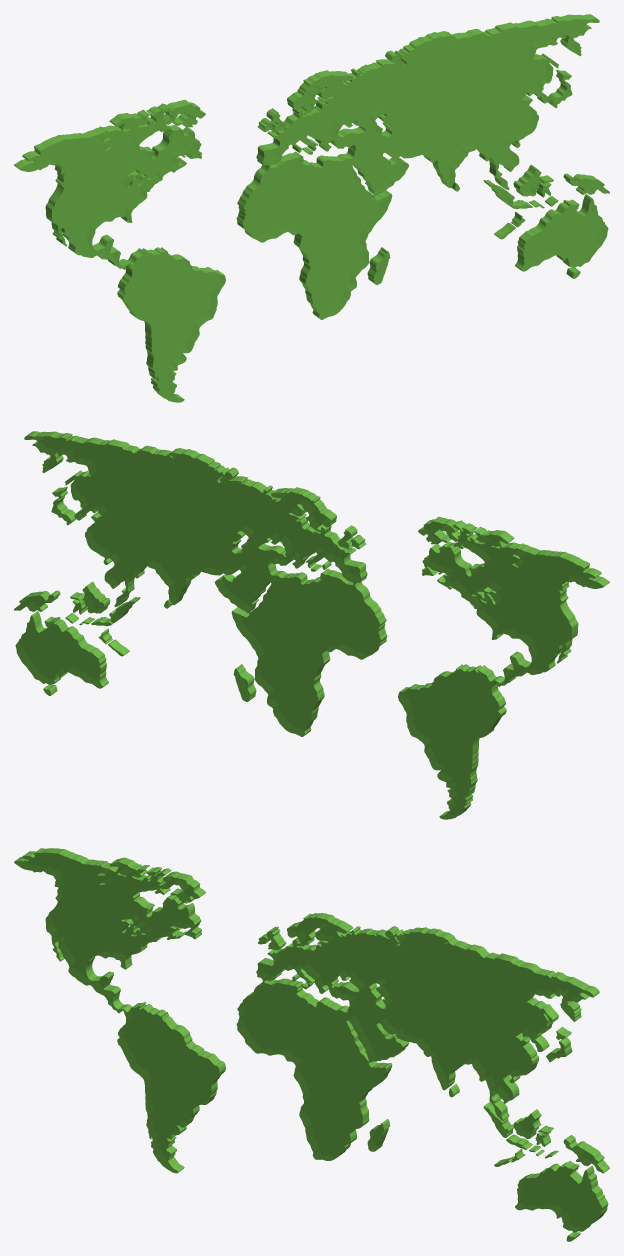
File: world_map_static.glb
The picture shows the model from 3 angles, top to bottom: view 1: azimuth 30°, elevation 25°; view 2: azimuth 150°, elevation 25°; view 3: azimuth 330°, elevation 25°; orthographic projection.
Visible parts, largest first — view 1: Cap_1_18, Cap_1_21, Extrude_17, Extrude_20, Cap_1_12, Extrude_11; view 2: Cap_2_18, Cap_2_21, Extrude_17, Extrude_20, Cap_2_12, Extrude_11; view 3: Cap_1_18, Cap_1_21, Extrude_17, Extrude_20, Cap_1_12, Extrude_11.
Part boxes in pixels (bbox=[...]): Cap_1_18: bbox=[243, 18, 599, 319]; Cap_1_21: bbox=[20, 104, 225, 402]; Extrude_17: bbox=[236, 14, 597, 318]; Extrude_20: bbox=[14, 99, 223, 399]; Cap_1_12: bbox=[521, 198, 608, 271]; Extrude_11: bbox=[515, 194, 603, 270]; Cap_2_18: bbox=[24, 435, 380, 736]; Cap_2_21: bbox=[398, 521, 603, 819]; Extrude_17: bbox=[26, 431, 387, 735]; Extrude_20: bbox=[400, 516, 609, 816]; Cap_2_12: bbox=[15, 615, 102, 688]; Extrude_11: bbox=[20, 611, 108, 687]; Cap_1_18: bbox=[236, 917, 593, 1160]; Cap_1_21: bbox=[14, 852, 219, 1173]; Extrude_17: bbox=[245, 913, 599, 1155]; Extrude_20: bbox=[14, 848, 225, 1172]; Cap_1_12: bbox=[515, 1165, 602, 1232]; Extrude_11: bbox=[516, 1160, 608, 1230].
Bounding box in the file's own units: 548 × 268 × 10.
